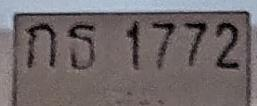1: (126, 20, 140, 70)
2: (215, 22, 238, 68)
7: (152, 21, 175, 69), (184, 21, 207, 66)
A01: (27, 22, 56, 68)
A24: (67, 22, 96, 70)
